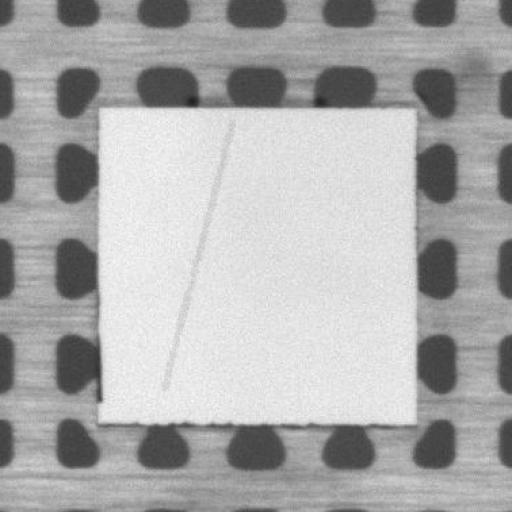DIE_CRACK: (162, 122, 231, 390)
